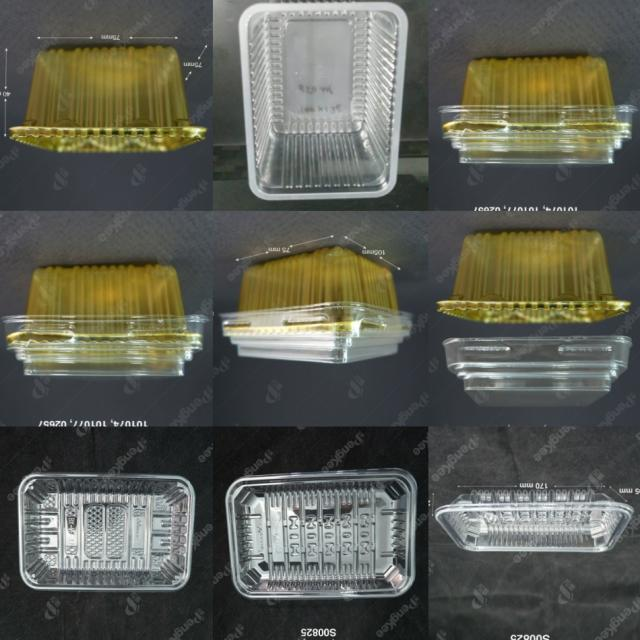plastik: (239, 2, 408, 200), (226, 469, 417, 599), (2, 265, 207, 377), (221, 247, 412, 364), (439, 57, 636, 165), (10, 46, 207, 152), (19, 473, 194, 590), (437, 230, 630, 324), (443, 336, 631, 407), (434, 488, 634, 552)
